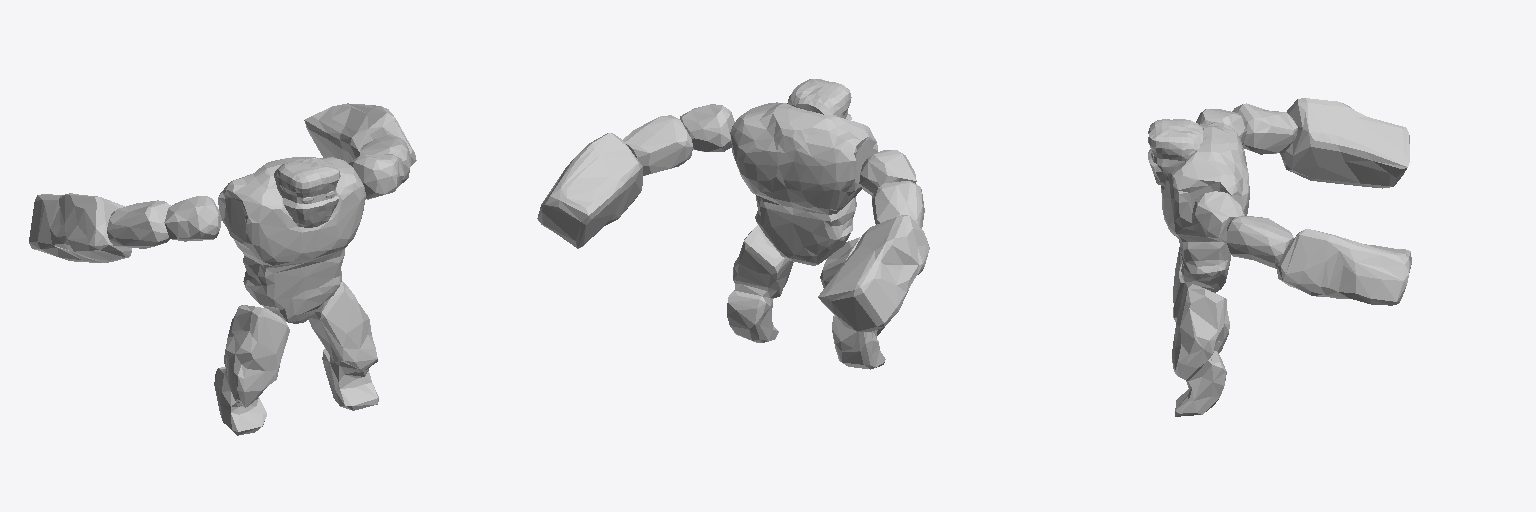
Rendered from Ataque5.obj.
3 views of the same model, side by side, from view 1: azimuth 30°, elevation 25°; view 2: azimuth 150°, elevation 25°; view 3: azimuth 270°, elevation 25° (orthographic).
Parts seen in each view (by area): view 1: Stone2:Mesh; view 2: Stone2:Mesh; view 3: Stone2:Mesh.
Boxes of the visible parts, x1=… form: Stone2:Mesh: x1=29, y1=103, x2=416, y2=435; Stone2:Mesh: x1=537, y1=79, x2=929, y2=369; Stone2:Mesh: x1=1148, y1=98, x2=1411, y2=416.
Size of the model in its own units: 13.41 by 9.58 by 8.83.